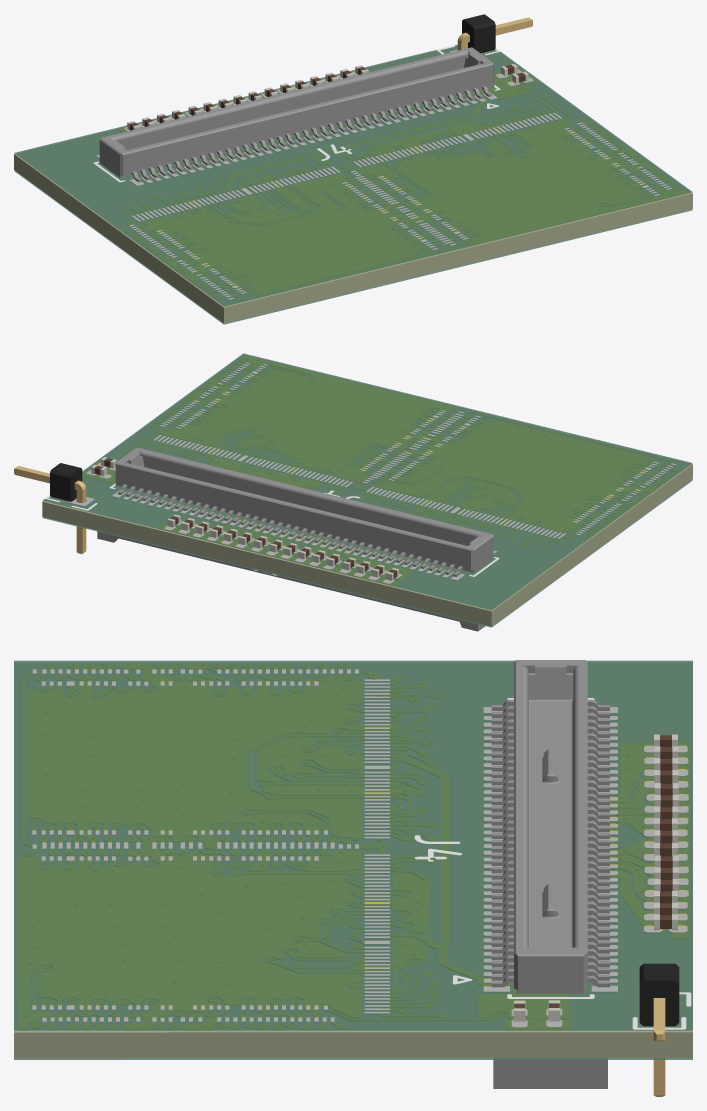
The model's file is asic-pcb5-real.glb.
3 views of the same model, one above another, from view 1: azimuth 30°, elevation 25°; view 2: azimuth 150°, elevation 25°; view 3: azimuth 270°, elevation 25° (orthographic). The views are drawn at different scales.
Visible parts, largest first — view 1: =>[0:1:1:15], =>[0:1:1:10], =>[0:1:1:17], =>[0:1:1:5], =>[0:1:1:11], =>[0:1:1:7], =>[0:1:1:16]; view 2: =>[0:1:1:15], =>[0:1:1:10], =>[0:1:1:17], =>[0:1:1:5], =>[0:1:1:11], =>[0:1:1:7], =>[0:1:1:9], =>[0:1:1:16]; view 3: =>[0:1:1:15], =>[0:1:1:10], =>[0:1:1:17], =>[0:1:1:5], =>[0:1:1:11], =>[0:1:1:9], =>[0:1:1:7], =>[0:1:1:12], =>[0:1:1:16], =>[0:1:1:13].
Boxes of the visible parts, x1=… form: =>[0:1:1:15]: x1=14, y1=44, x2=692, y2=306; =>[0:1:1:10]: x1=120, y1=68, x2=687, y2=300; =>[0:1:1:17]: x1=14, y1=46, x2=692, y2=323; =>[0:1:1:5]: x1=99, y1=47, x2=494, y2=182; =>[0:1:1:11]: x1=96, y1=50, x2=671, y2=299; =>[0:1:1:7]: x1=457, y1=14, x2=532, y2=53; =>[0:1:1:16]: x1=14, y1=171, x2=692, y2=324; =>[0:1:1:15]: x1=42, y1=353, x2=692, y2=610; =>[0:1:1:10]: x1=83, y1=356, x2=679, y2=585; =>[0:1:1:17]: x1=42, y1=355, x2=692, y2=626; =>[0:1:1:5]: x1=115, y1=447, x2=493, y2=576; =>[0:1:1:11]: x1=68, y1=362, x2=676, y2=583; =>[0:1:1:7]: x1=14, y1=463, x2=86, y2=554; =>[0:1:1:9]: x1=97, y1=531, x2=485, y2=631; =>[0:1:1:16]: x1=43, y1=480, x2=692, y2=627; =>[0:1:1:15]: x1=14, y1=660, x2=692, y2=1030; =>[0:1:1:10]: x1=18, y1=663, x2=688, y2=1029; =>[0:1:1:17]: x1=14, y1=663, x2=692, y2=1058; =>[0:1:1:5]: x1=491, y1=660, x2=609, y2=993; =>[0:1:1:11]: x1=32, y1=669, x2=688, y2=1027; =>[0:1:1:9]: x1=493, y1=1058, x2=607, y2=1088; =>[0:1:1:7]: x1=639, y1=963, x2=679, y2=1096; =>[0:1:1:12]: x1=23, y1=664, x2=683, y2=1027; =>[0:1:1:16]: x1=14, y1=1058, x2=692, y2=1059; =>[0:1:1:13]: x1=414, y1=698, x2=691, y2=1029.
Size of the model in its own units: 0.0238 by 0.00377 by 0.017.
